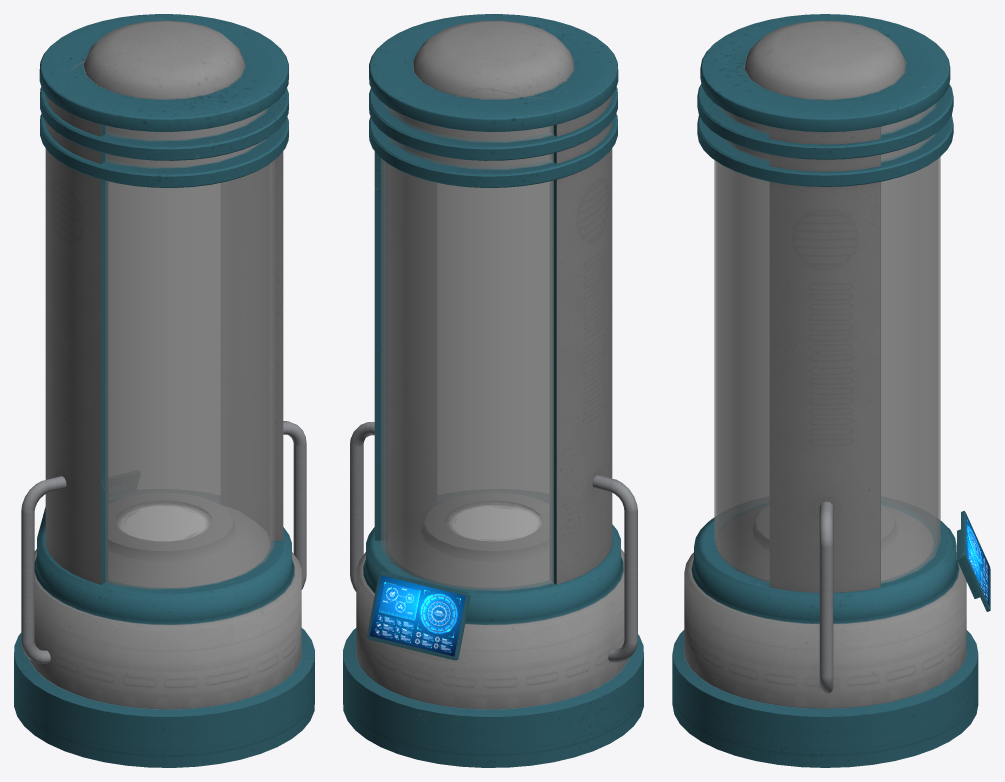
Rendered from CapsuleChamber.fbx.
3 views of the same model, side by side, from view 1: azimuth 30°, elevation 25°; view 2: azimuth 150°, elevation 25°; view 3: azimuth 270°, elevation 25° (orthographic).
Parts seen in each view (by area): view 1: CapsuleChamber1, CapsuleChamberGlass; view 2: CapsuleChamber1, CapsuleChamberGlass; view 3: CapsuleChamber1, CapsuleChamberGlass.
Part boxes in pixels (x1,y1,x2,y2): CapsuleChamber1: (14,14,314,767); CapsuleChamberGlass: (105,108,274,589); CapsuleChamber1: (343,14,643,767); CapsuleChamberGlass: (381,103,553,590); CapsuleChamber1: (672,14,990,767); CapsuleChamberGlass: (714,103,940,583).
Bounding box in the file's own units: 177 × 393 × 171.
